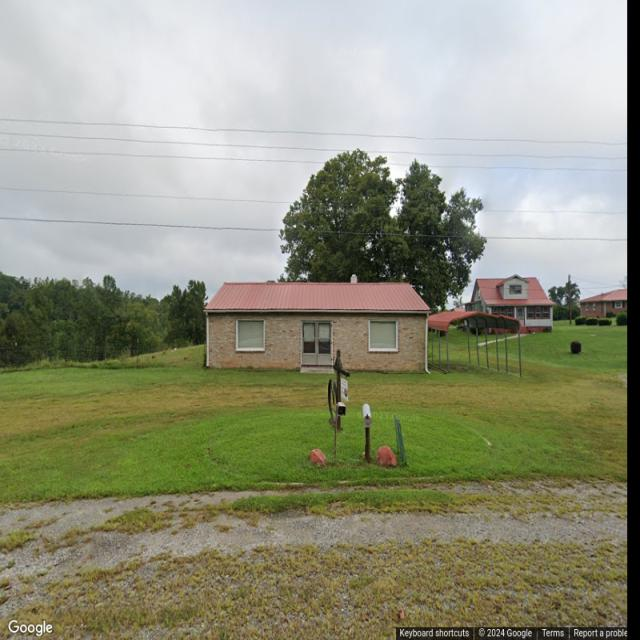House: (202, 275, 431, 372), (464, 274, 555, 333), (578, 289, 627, 318)
